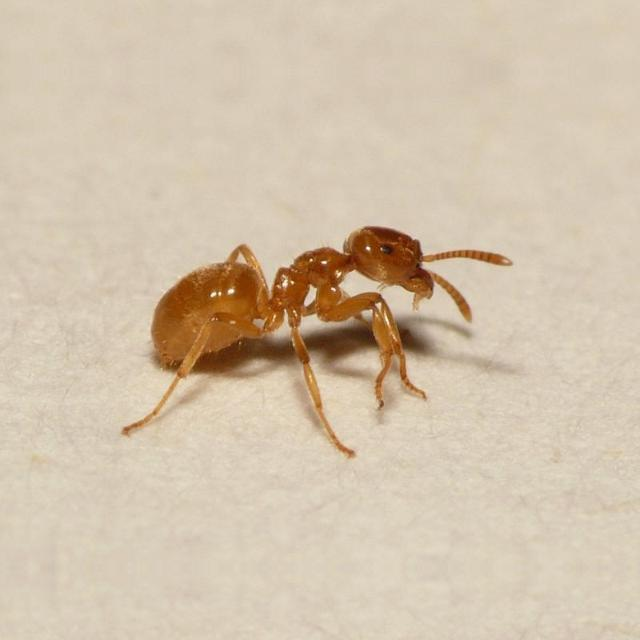Lasius: (146, 178, 478, 412)
